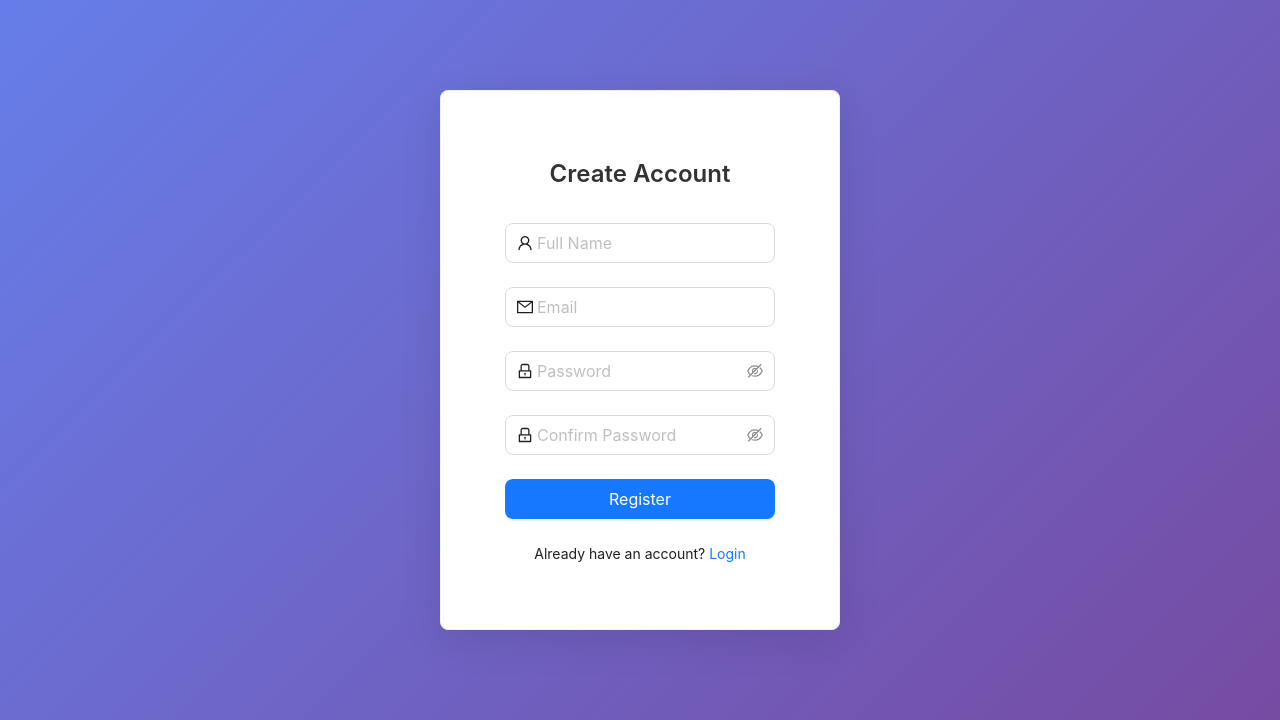
Test: Register Component › should show validation error for short password
The width and height of the screenshot is (1280, 720).
Type "12345" into the password field with placeholder "Password" at (640, 371), box [537, 359, 743, 383]
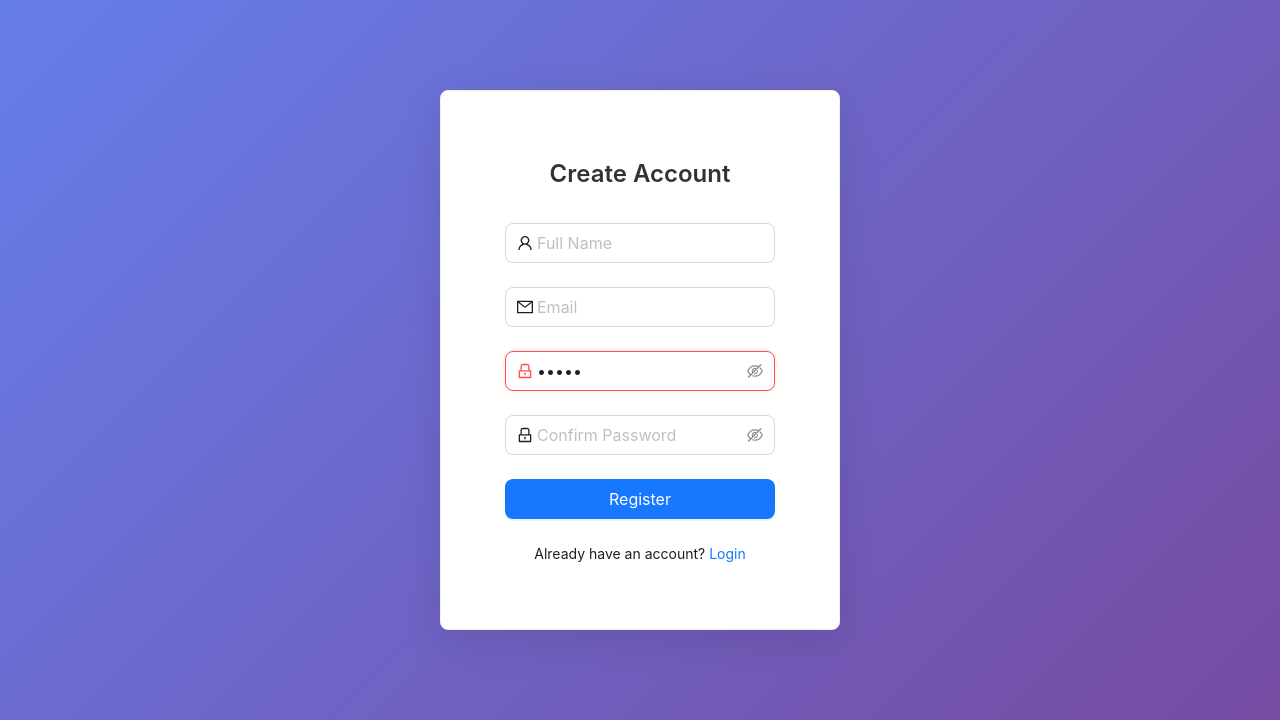
Click the button "Register" at (640, 499), box [505, 479, 775, 519]
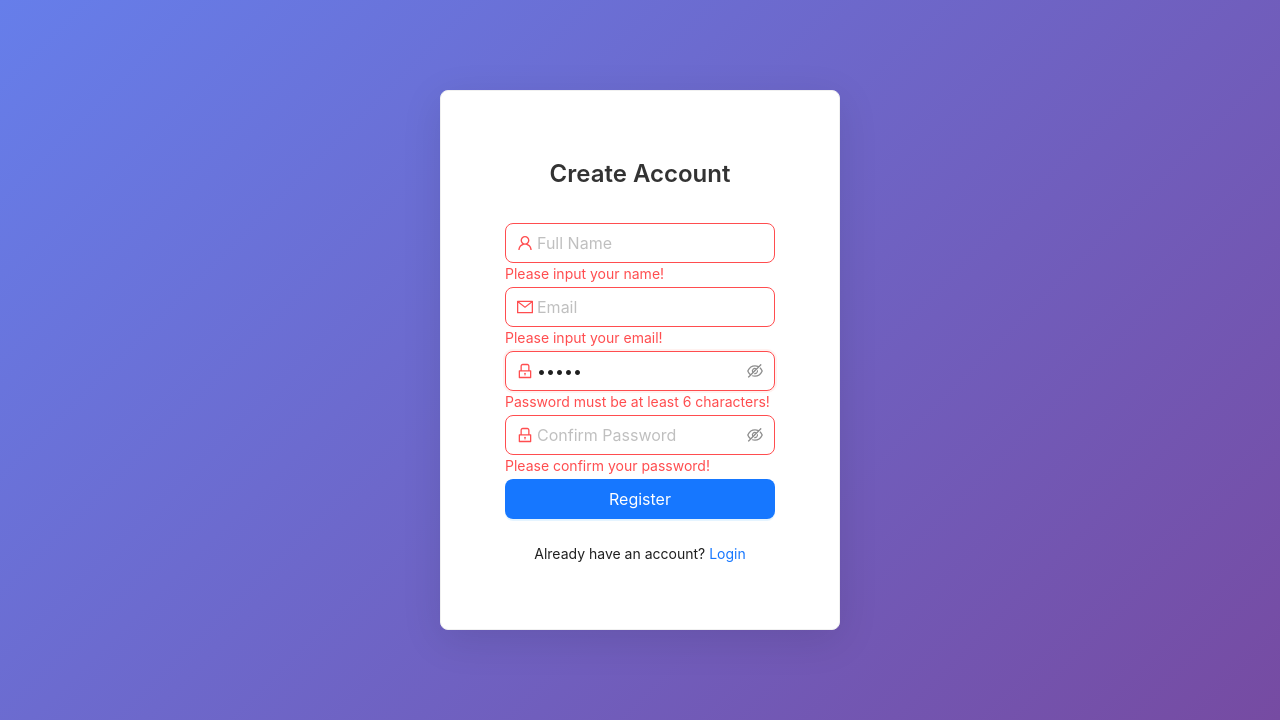
Result: the text "Password must be at least 6 characters!" is shown at [505, 391, 775, 413]
